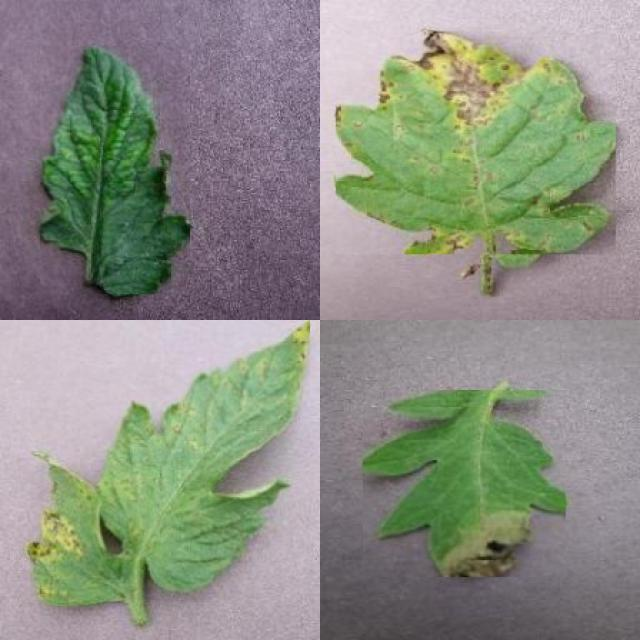Late Blight: (364, 390, 566, 577)
Mosaic Virus: (40, 46, 190, 294)
Septoria: (30, 320, 310, 603), (336, 32, 616, 255)
